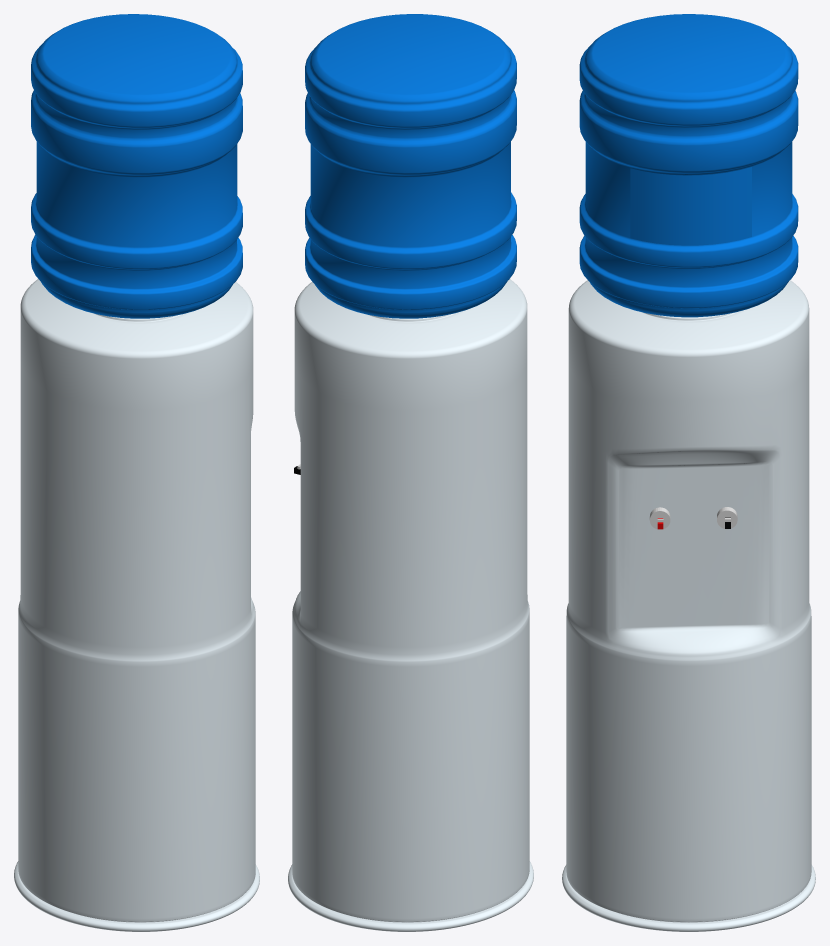
Rendered from dystrybutor wody.fbx.
3 views of the same model, side by side, from view 1: azimuth 30°, elevation 25°; view 2: azimuth 150°, elevation 25°; view 3: azimuth 270°, elevation 25° (orthographic).
Parts seen in each view (by area): view 1: Dystrubtor wody - bryła; view 2: Dystrubtor wody - bryła; view 3: Dystrubtor wody - bryła.
Boxes of the visible parts, x1,y1,x2,y2 form: Dystrubtor wody - bryła: (14, 14, 259, 931); Dystrubtor wody - bryła: (288, 14, 533, 931); Dystrubtor wody - bryła: (562, 14, 815, 931).
Size of the model in its own units: 89.94 by 336 by 93.44.
